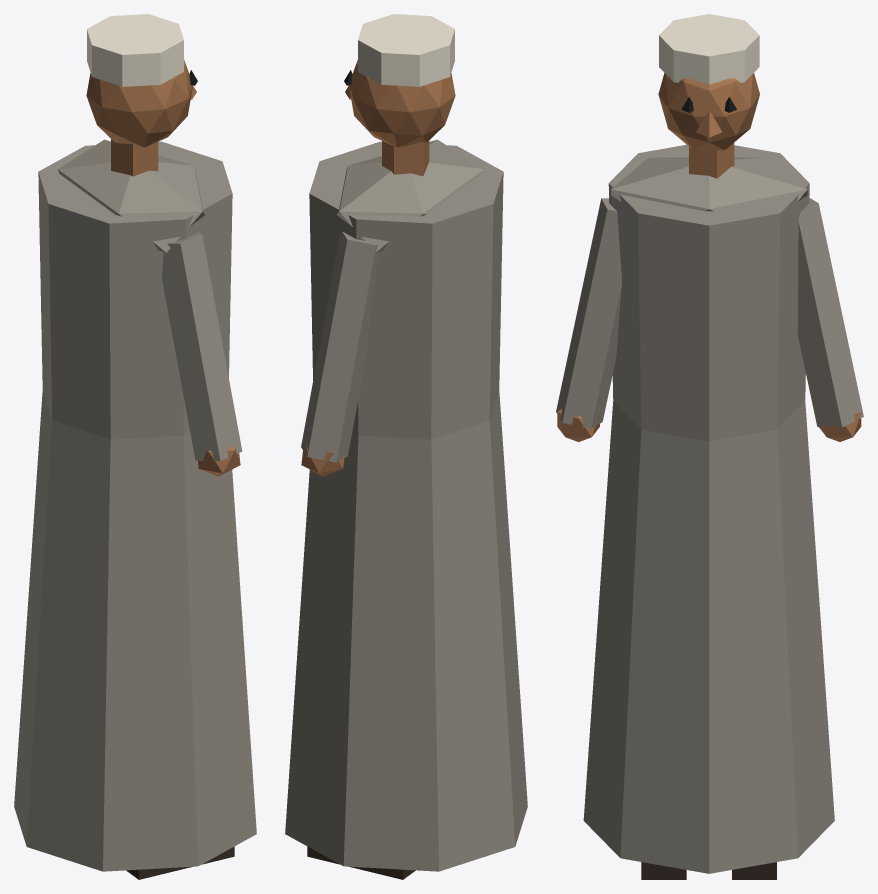
Rendered from man_galabeya.glb.
The picture shows the model from 3 angles, left to right: view 1: azimuth 30°, elevation 25°; view 2: azimuth 150°, elevation 25°; view 3: azimuth 270°, elevation 25°; orthographic projection.
Visible parts, largest first — view 1: man_galabeya; view 2: man_galabeya; view 3: man_galabeya.
Boxes of the visible parts, bbox=[...] form: man_galabeya: bbox=[14, 14, 256, 879]; man_galabeya: bbox=[285, 14, 527, 879]; man_galabeya: bbox=[556, 14, 863, 879].
Bounding box in the file's own units: 0.5 × 1.78 × 0.6128.
